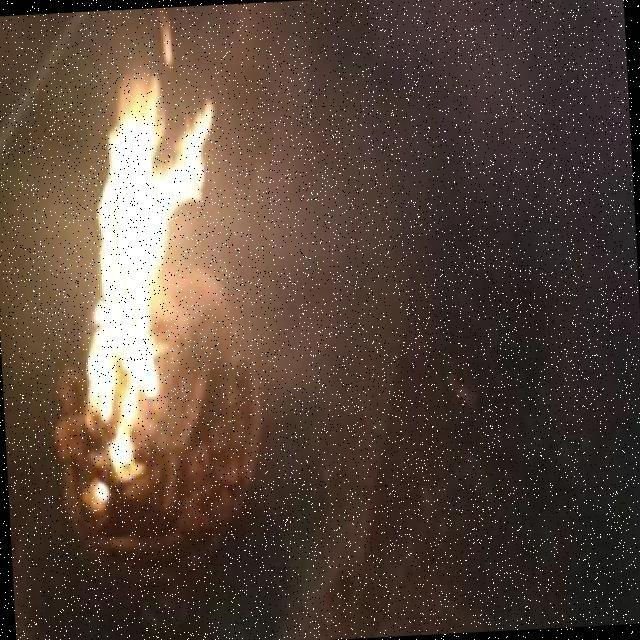Fire: (79, 344, 176, 518), (83, 150, 178, 257), (80, 250, 169, 348), (90, 54, 175, 154), (171, 63, 223, 223)
Smoke: (213, 24, 372, 391), (0, 107, 78, 378), (164, 251, 230, 400)
